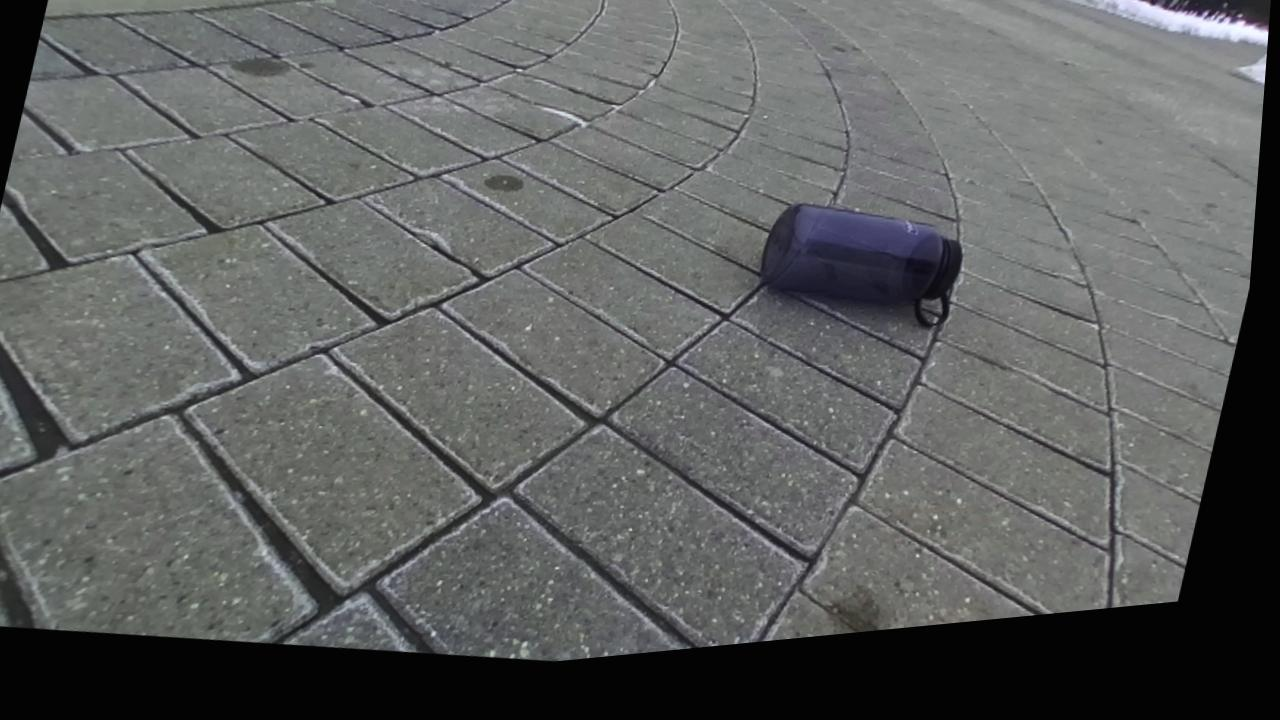bottle: (761, 203, 962, 325)
